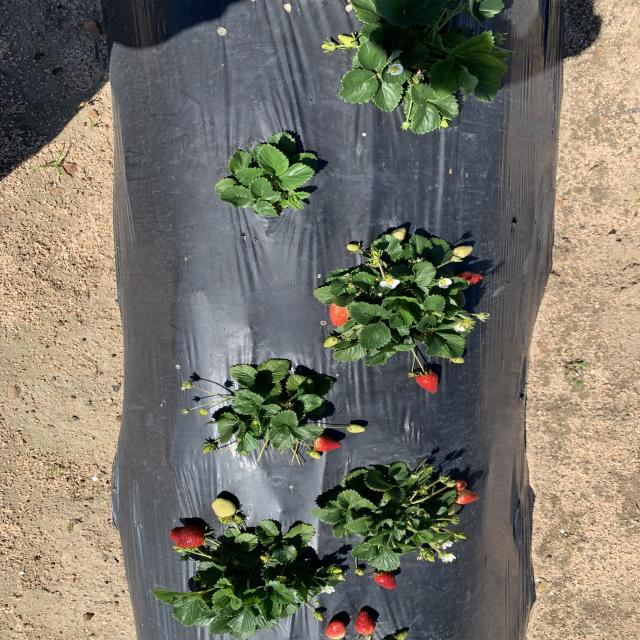unripe: (169, 526, 207, 548), (412, 370, 444, 394), (448, 268, 484, 288), (330, 299, 352, 328), (352, 610, 376, 634), (312, 437, 343, 452), (374, 569, 396, 590), (326, 620, 346, 638), (456, 491, 479, 504), (454, 481, 470, 492)
